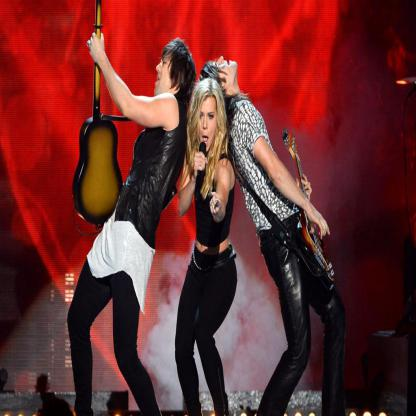face: (155, 48, 175, 98), (199, 99, 217, 151), (212, 56, 238, 82)
